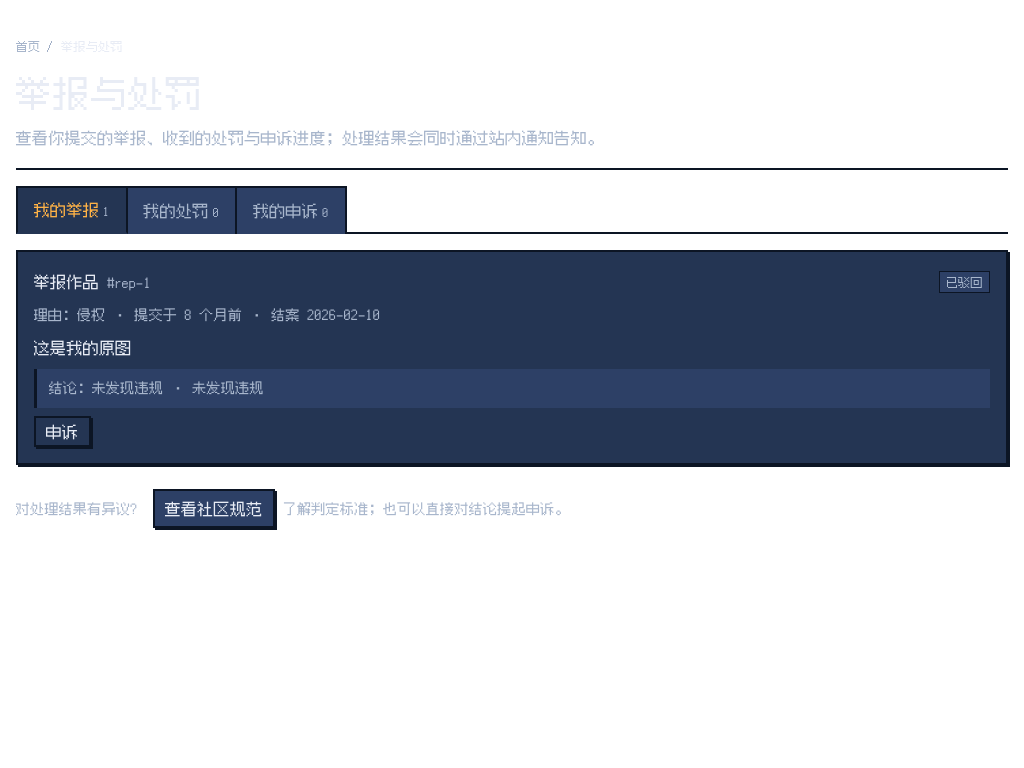
Test: MeModerationPage › 被驳回的举报可以申诉：弹窗校验字数，提交成功关闭弹窗
Click the button "申诉".
click(62, 431)  # box [34, 416, 91, 447]
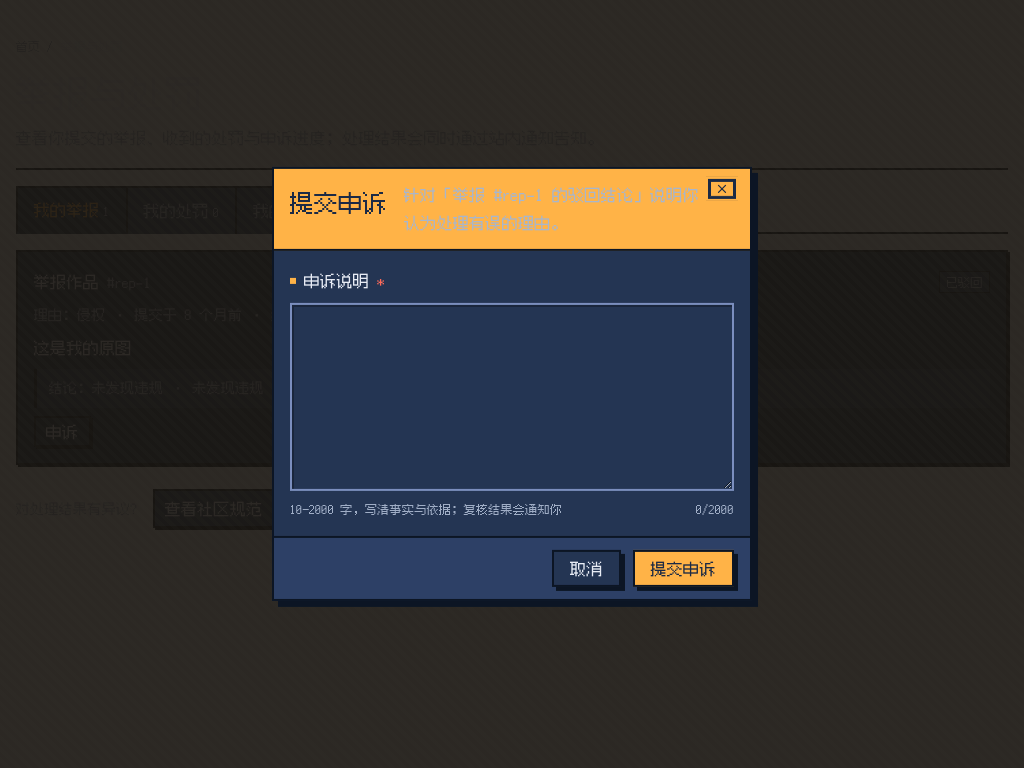
Check: the heading "提交申诉" is shown, box [290, 181, 396, 223]
# 太短：前端先挡，不发请求
Type "不服" into the text box labelled "申诉说明 *".
click(512, 397); type("不服")  # box [290, 303, 734, 491]
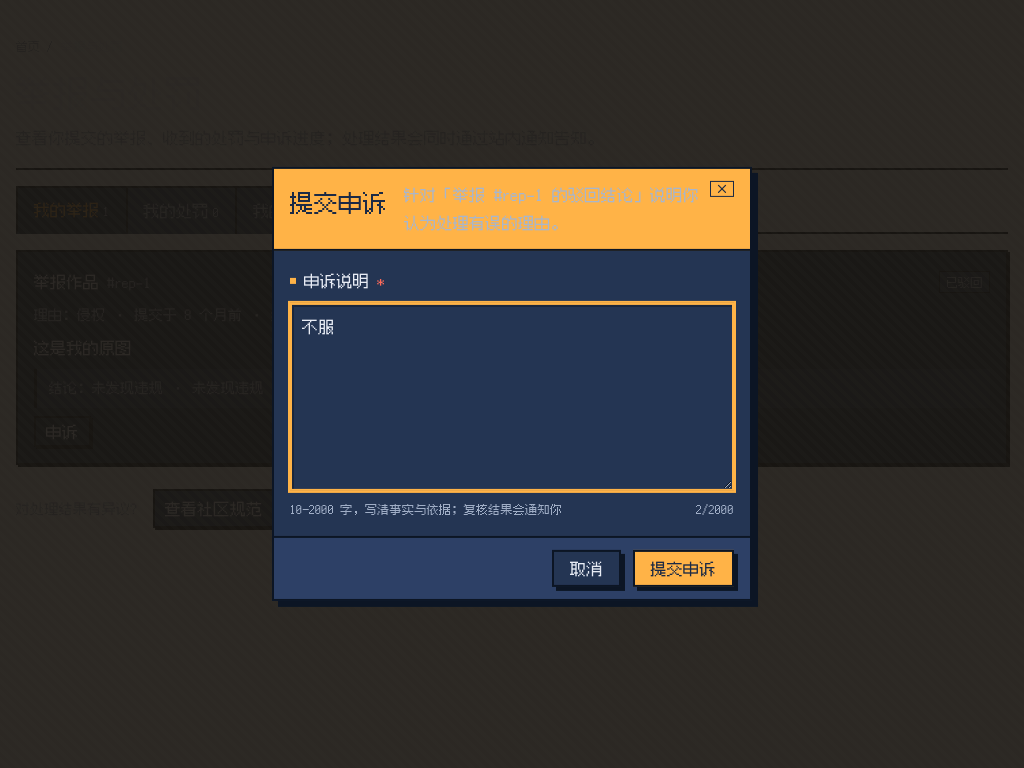
Click the button "提交申诉".
click(683, 568)  # box [633, 550, 734, 587]
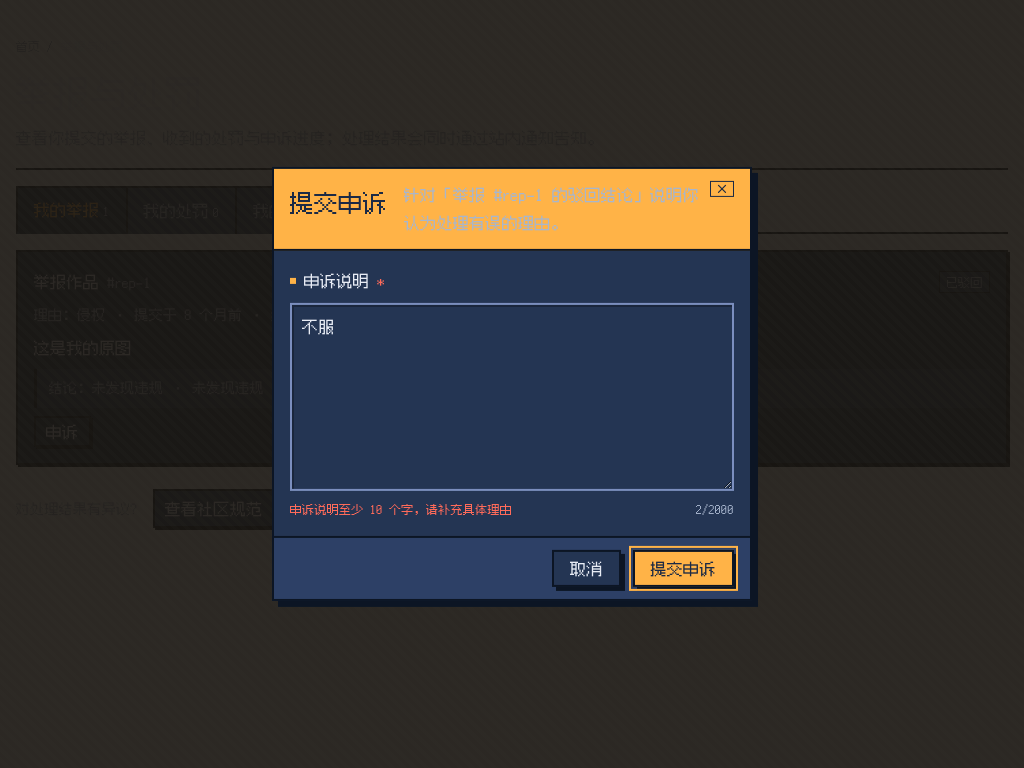
Check: the message shows "至少 10 个字", box [290, 501, 512, 517]
# 合格：调用契约并关闭
Type "，这张照片是我在去年秋天拍摄的" into the text box labelled "申诉说明 *".
click(512, 397); type("，这张照片是我在去年秋天拍摄的")  # box [290, 303, 734, 491]
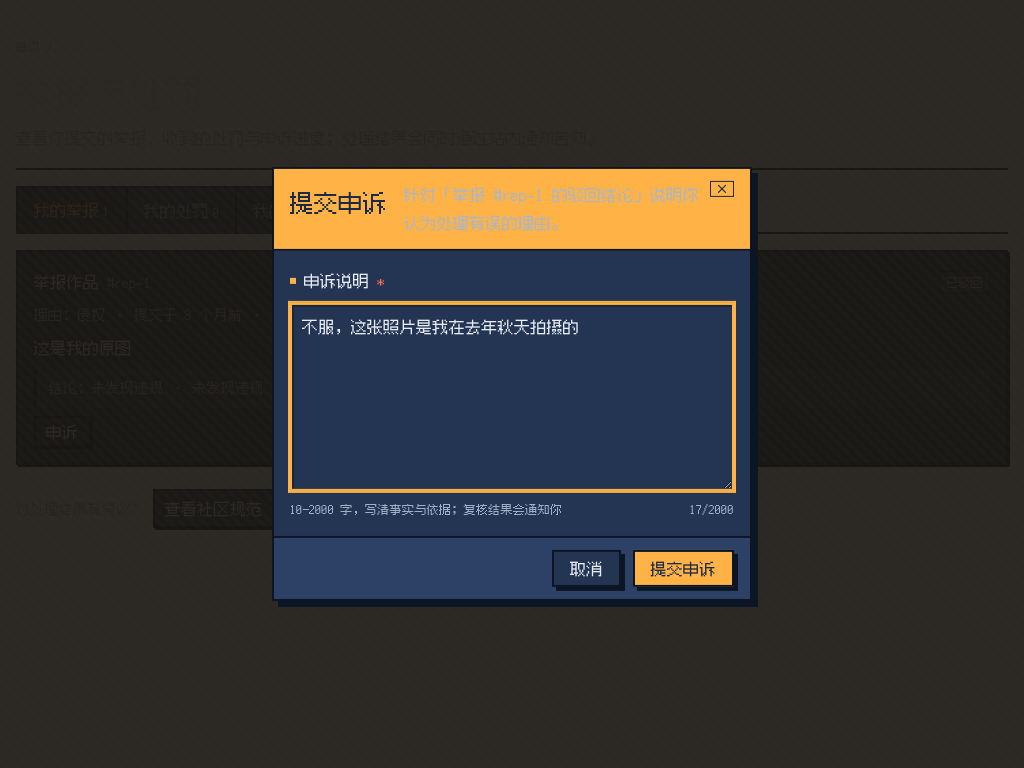
Click the button "提交申诉".
click(683, 568)  # box [633, 550, 734, 587]
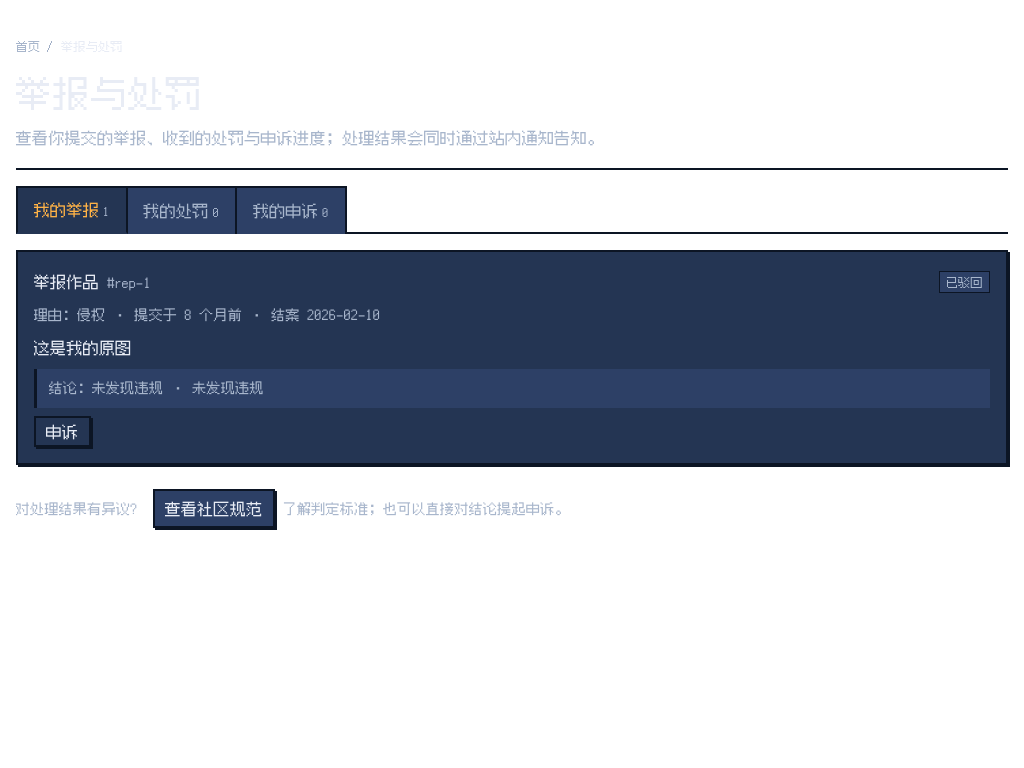
Check: the dialog is gone
